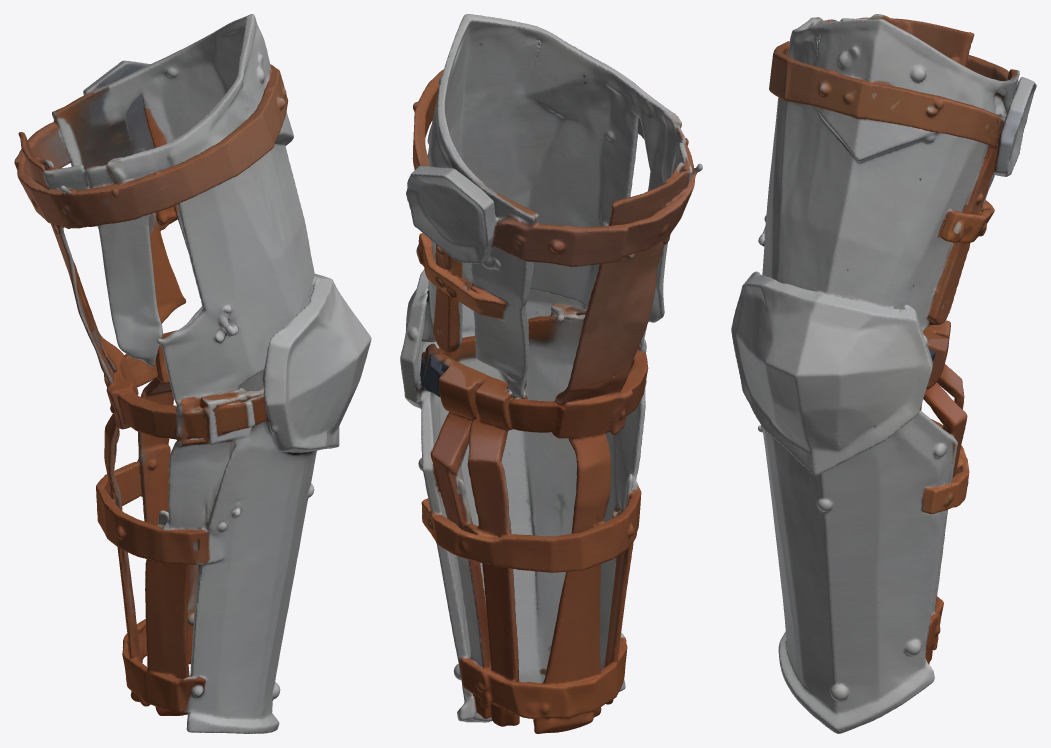
Rendered from gear_greave.glb.
3 views of the same model, side by side, from view 1: azimuth 30°, elevation 25°; view 2: azimuth 150°, elevation 25°; view 3: azimuth 270°, elevation 25° (orthographic). The views are drawn at different scales.
Parts seen in each view (by area): view 1: tripo_node_0de91fd6-26b3-4c9d-a471-e4b7e348b4c5; view 2: tripo_node_0de91fd6-26b3-4c9d-a471-e4b7e348b4c5; view 3: tripo_node_0de91fd6-26b3-4c9d-a471-e4b7e348b4c5.
Boxes of the visible parts, <box> form: tripo_node_0de91fd6-26b3-4c9d-a471-e4b7e348b4c5: <box>14,14,371,733</box>; tripo_node_0de91fd6-26b3-4c9d-a471-e4b7e348b4c5: <box>400,14,702,733</box>; tripo_node_0de91fd6-26b3-4c9d-a471-e4b7e348b4c5: <box>731,14,1036,733</box>.
Size of the model in its own units: 0.4369 by 1 by 0.3882.
Materials: 1 (1 with a texture image).
